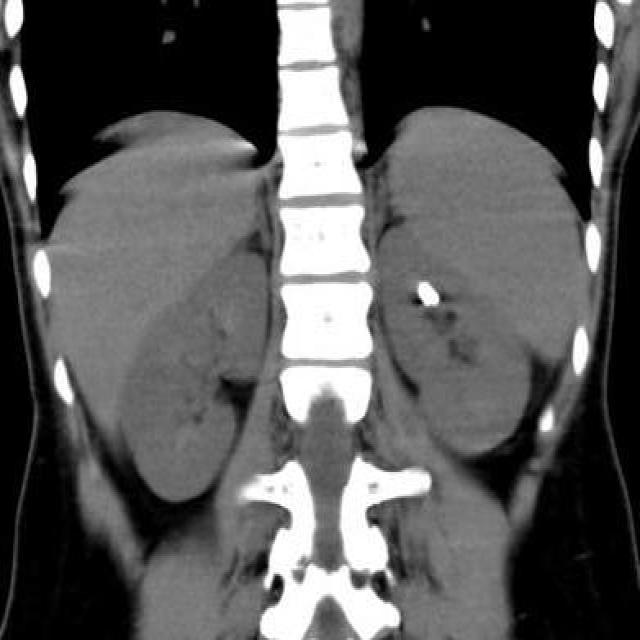Tas_Var: (412, 276, 444, 312)
